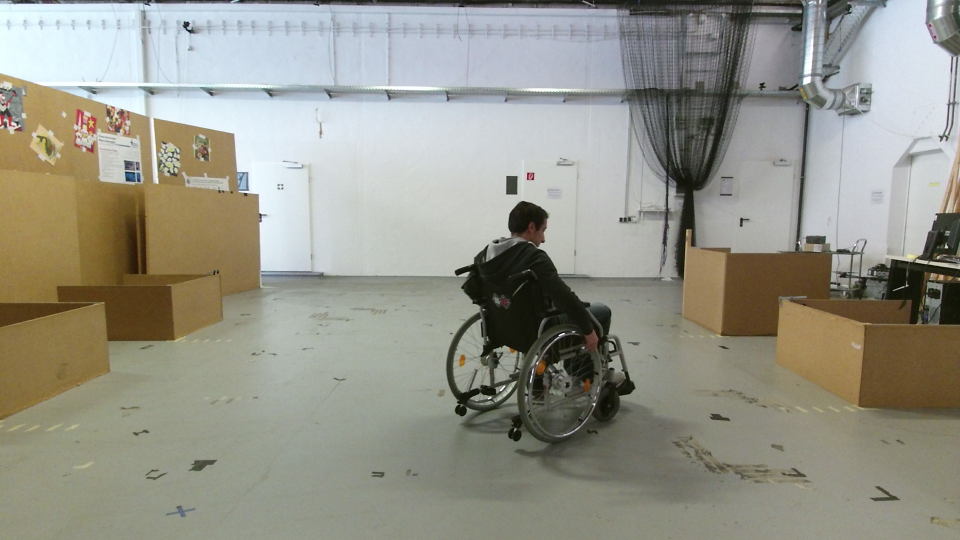wheelchair: (441, 197, 641, 446)
